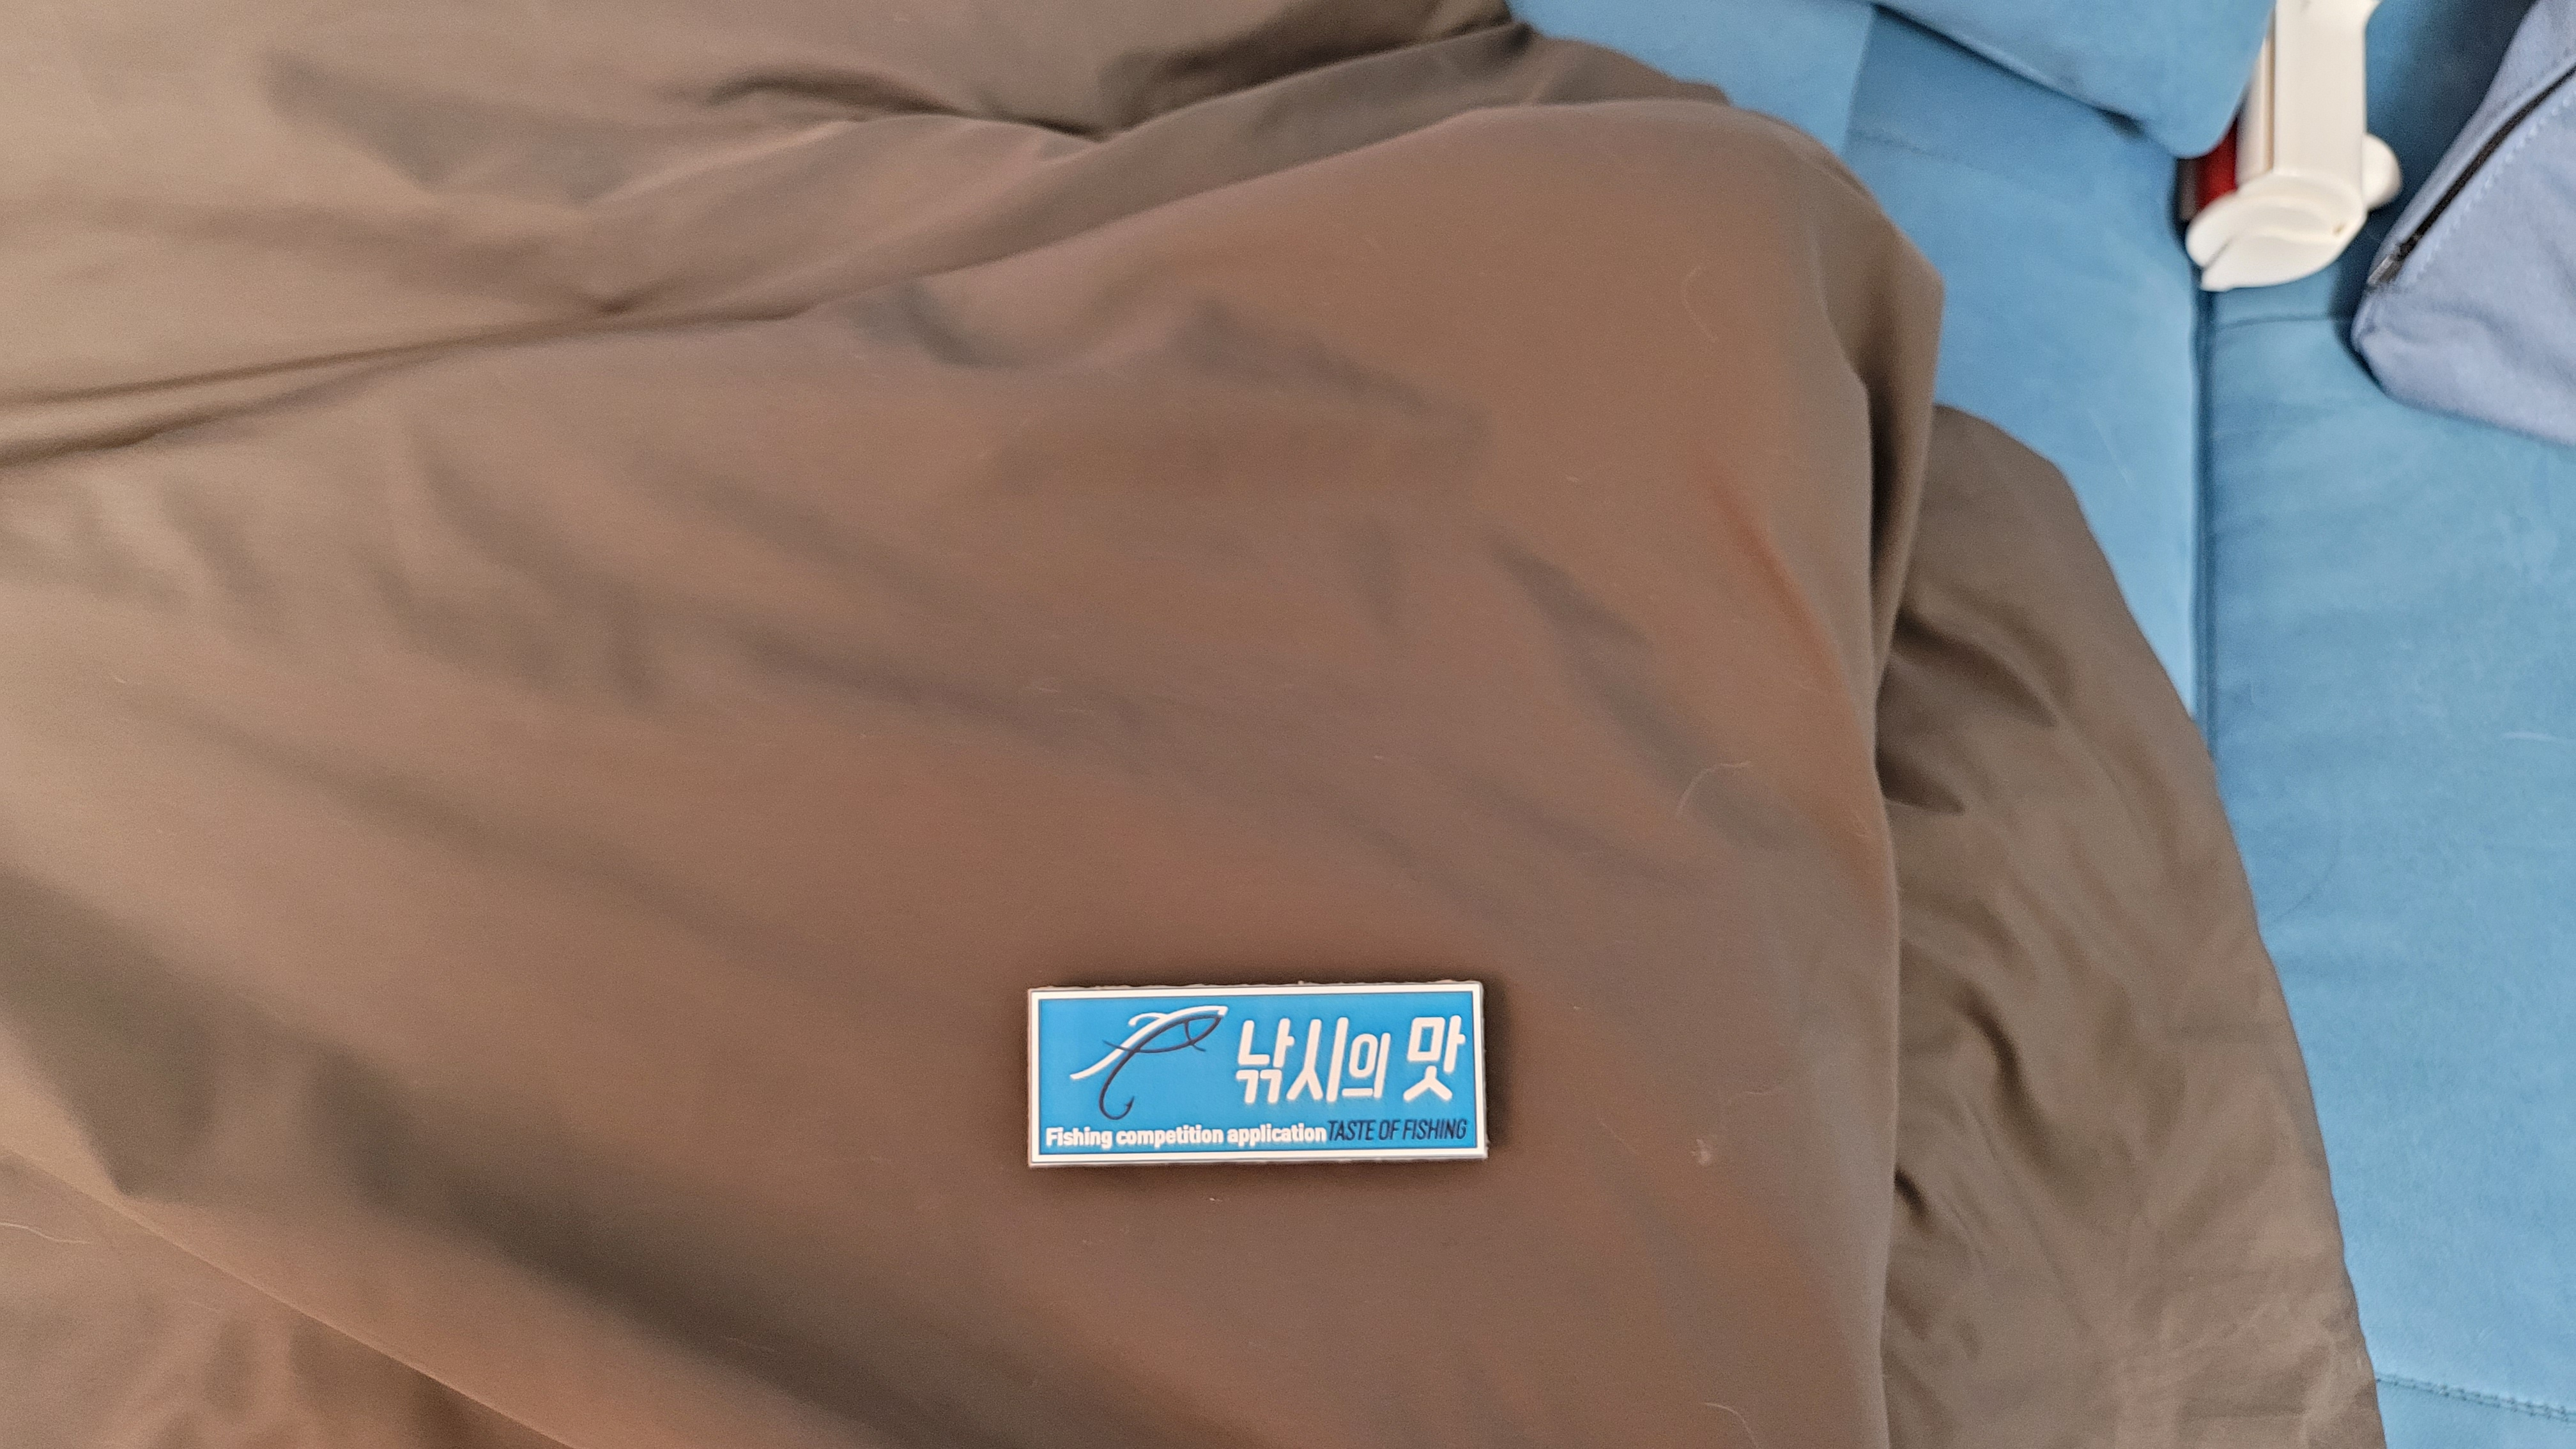tag: (1030, 984, 1488, 1159)
